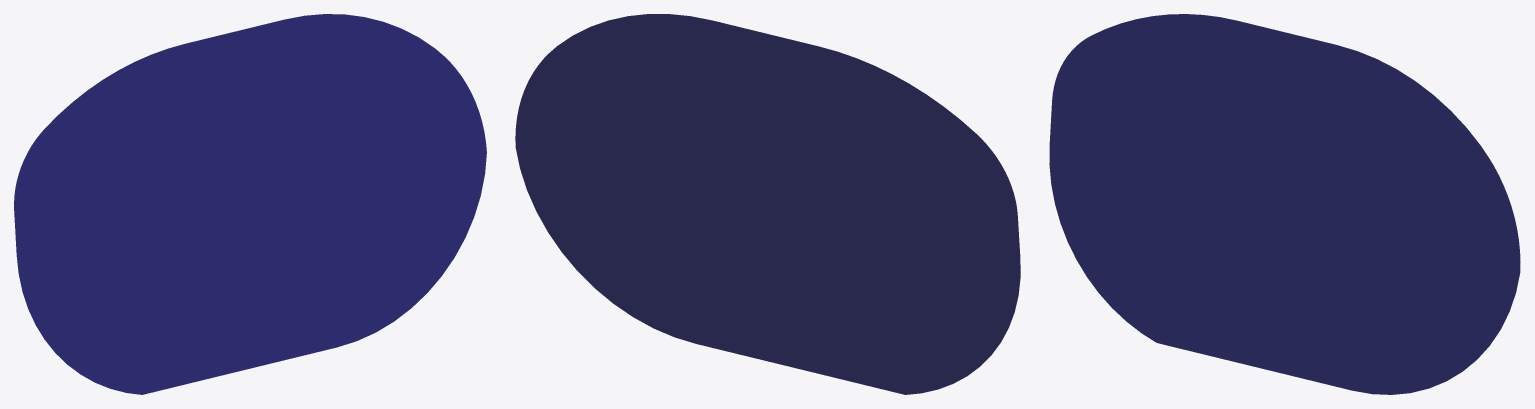
The model's file is original-13.obj.
3 views of the same model, side by side, from view 1: azimuth 30°, elevation 25°; view 2: azimuth 150°, elevation 25°; view 3: azimuth 330°, elevation 25° (orthographic). The views are drawn at different scales.
Parts seen in each view (by area): view 1: 3dw.eb6176d02ba79f0640010f30b5cd77ee/Model/mesh1/mesh1-geometry/; view 2: 3dw.eb6176d02ba79f0640010f30b5cd77ee/Model/mesh1/mesh1-geometry/; view 3: 3dw.eb6176d02ba79f0640010f30b5cd77ee/Model/mesh1/mesh1-geometry/.
Part boxes in pixels (x1,y1,x2,y2): 3dw.eb6176d02ba79f0640010f30b5cd77ee/Model/mesh1/mesh1-geometry/: (14,14,486,394); 3dw.eb6176d02ba79f0640010f30b5cd77ee/Model/mesh1/mesh1-geometry/: (515,14,1020,394); 3dw.eb6176d02ba79f0640010f30b5cd77ee/Model/mesh1/mesh1-geometry/: (1049,14,1520,394).
Size of the model in its own units: 0.3852 by 0.2528 by 0.0266.
